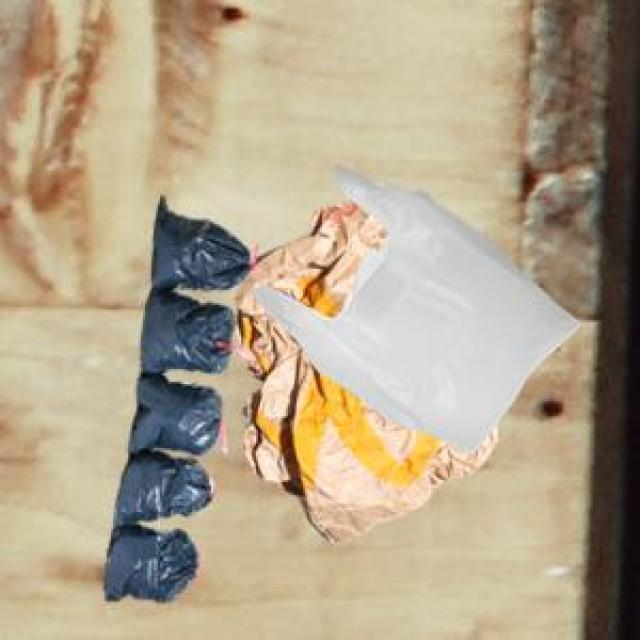miscellaneous trash: (100, 192, 250, 597)
paper: (230, 196, 493, 540)
